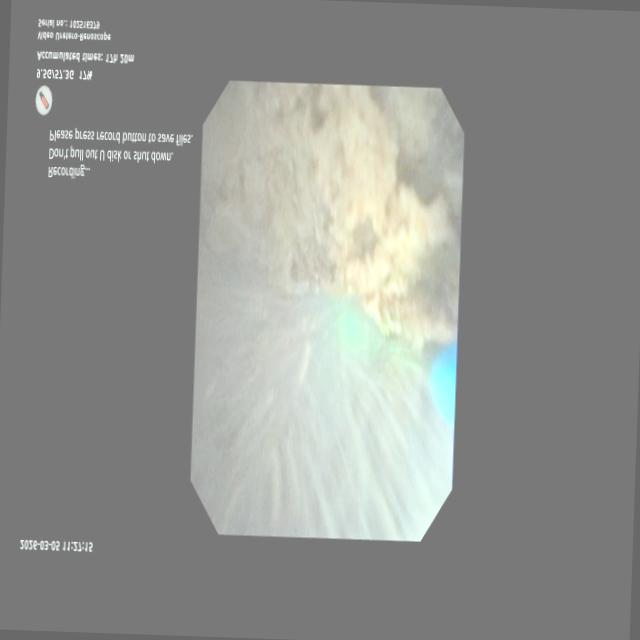laser_dot: (338, 307, 372, 350)
stone-new: (202, 84, 463, 346)
